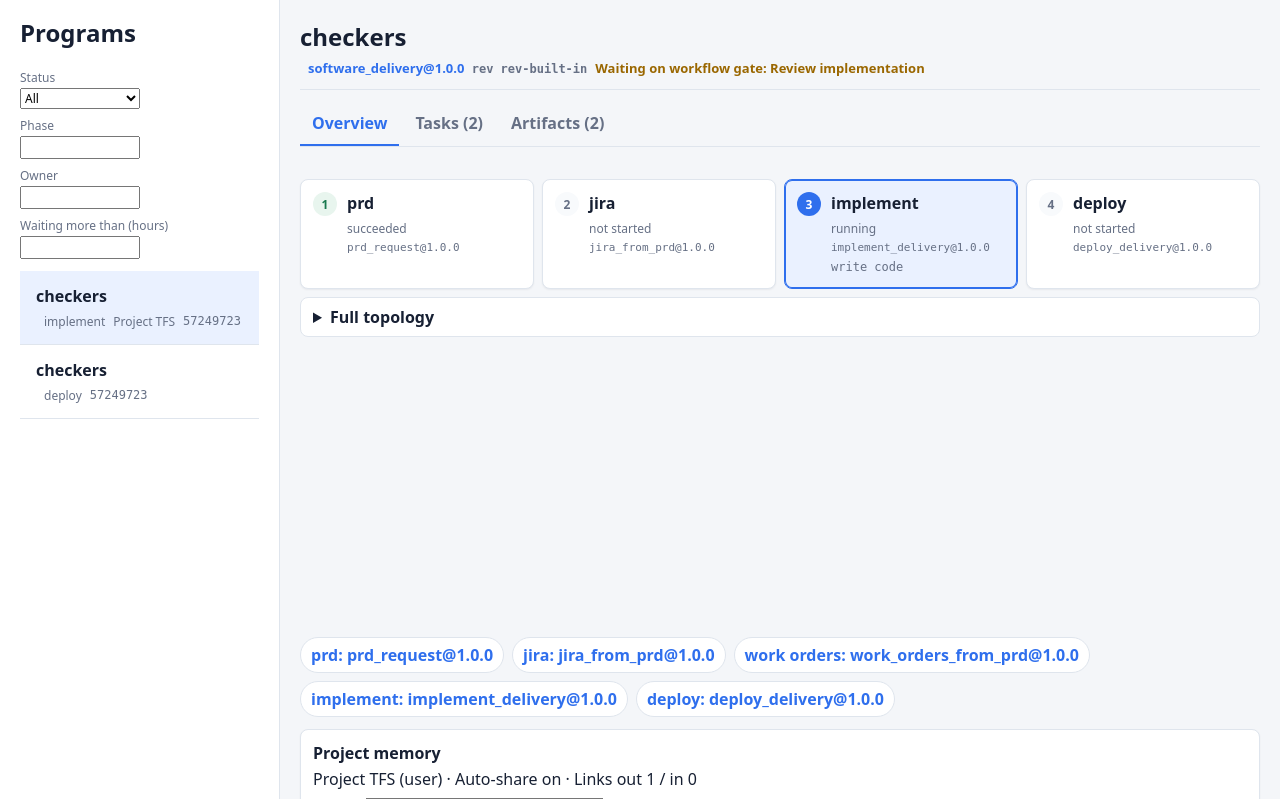
renders compact distinguishable program rows and overview/tasks/artifacts tabs
expect the 1st text "checkers" is shown: met, box 36,285 -> 107,307
expect the text "implement" below "Waiting more than (hours)" is shown: met, box 44,313 -> 105,330
Click the tab "Tasks (2)" at (449, 124), box 403,102 -> 495,146
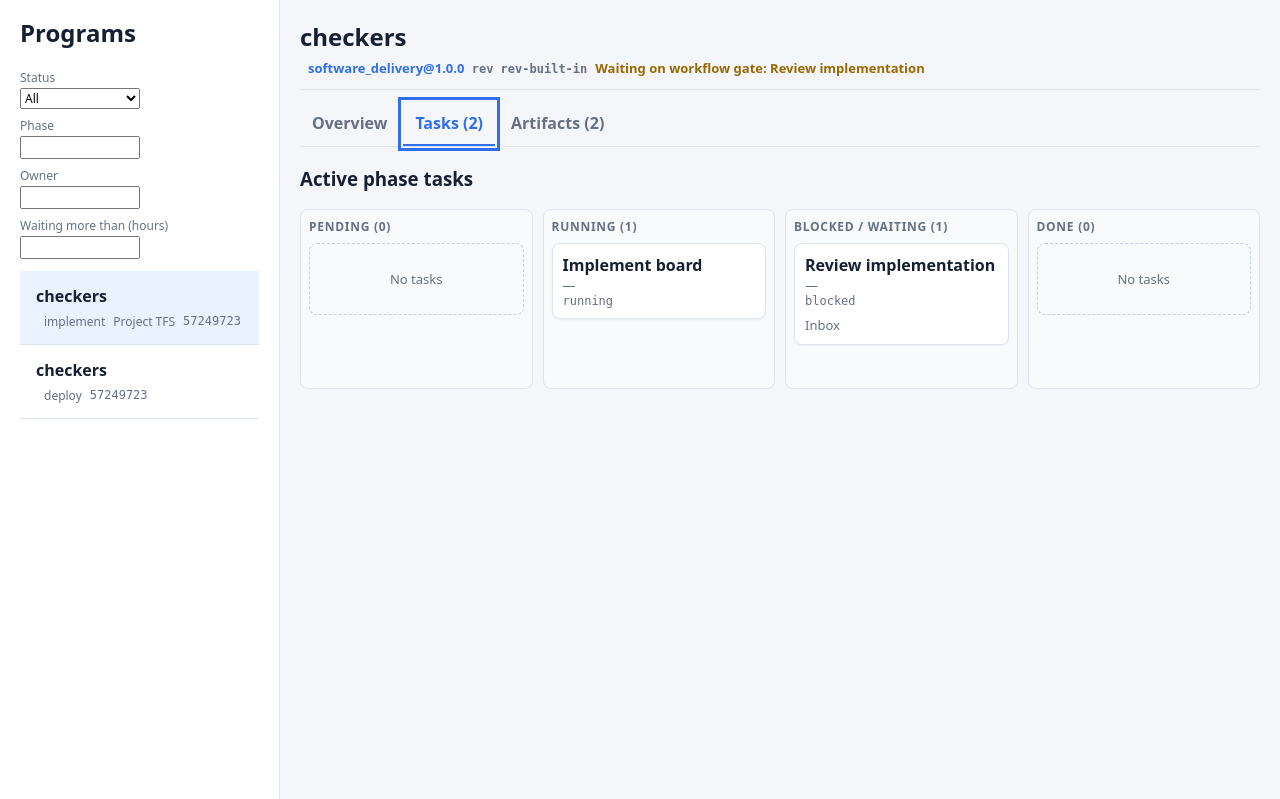
expect the text "Implement board" is shown: met, box 562,254 -> 702,276
Click the tab "Artifacts (2)" at (558, 124), box 499,102 -> 616,146
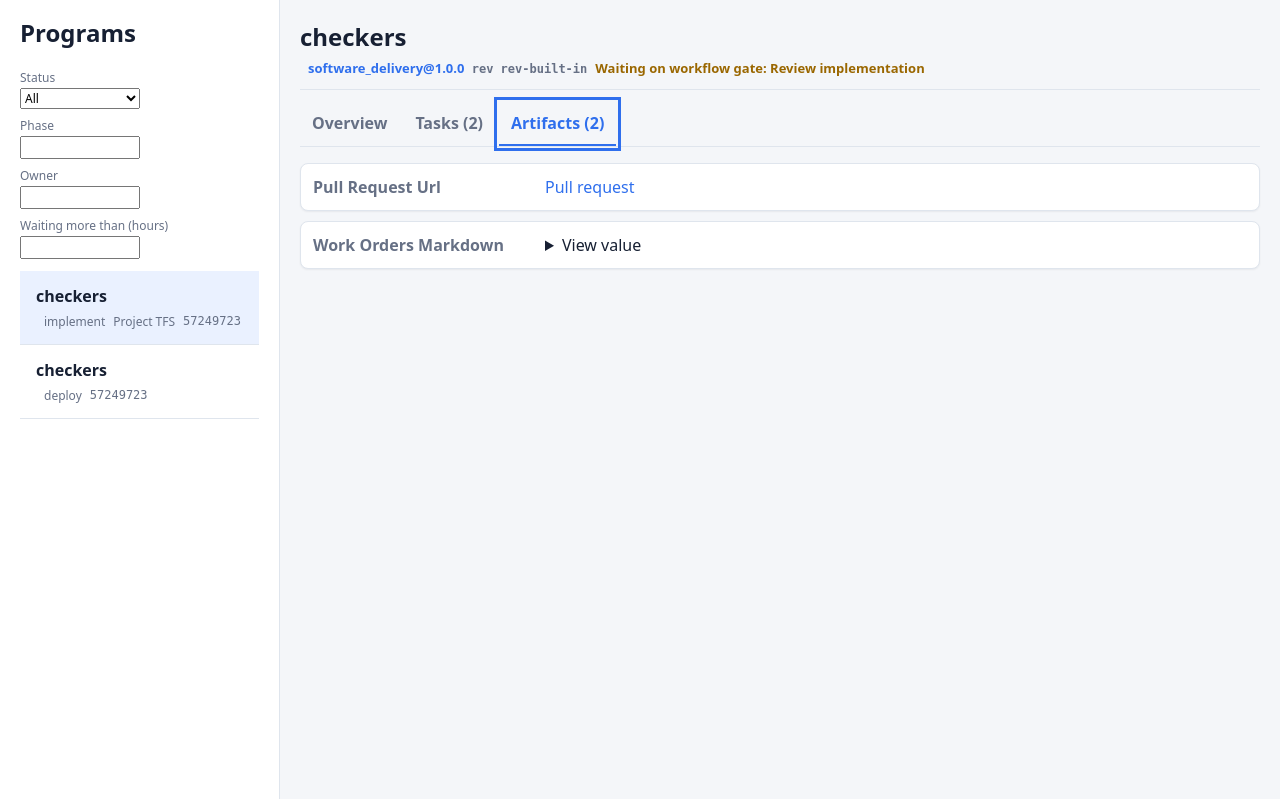
expect the text "work orders markdown" is shown: met, box 313,234 -> 533,256
expect the heading "View value" is shown: met, box 562,234 -> 641,256
